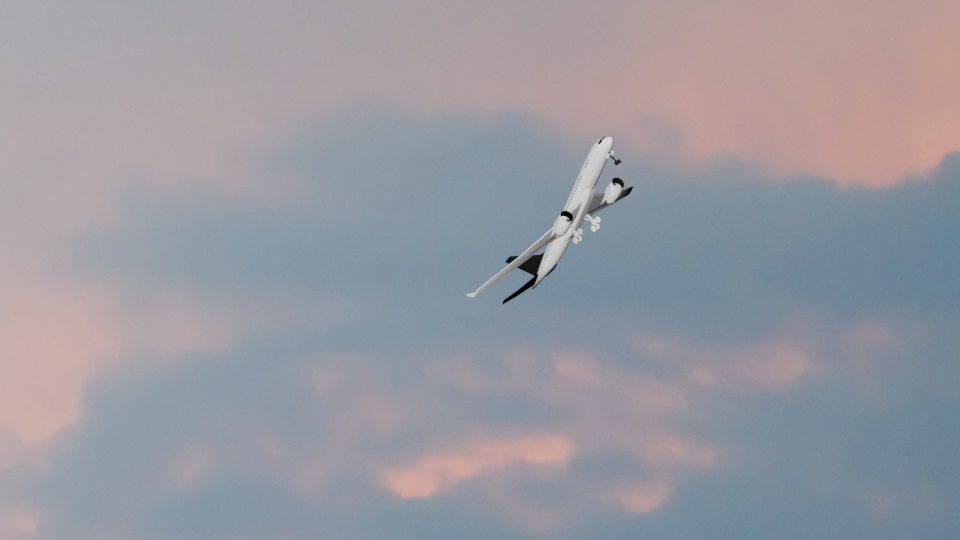plane: (465, 135, 636, 312)
